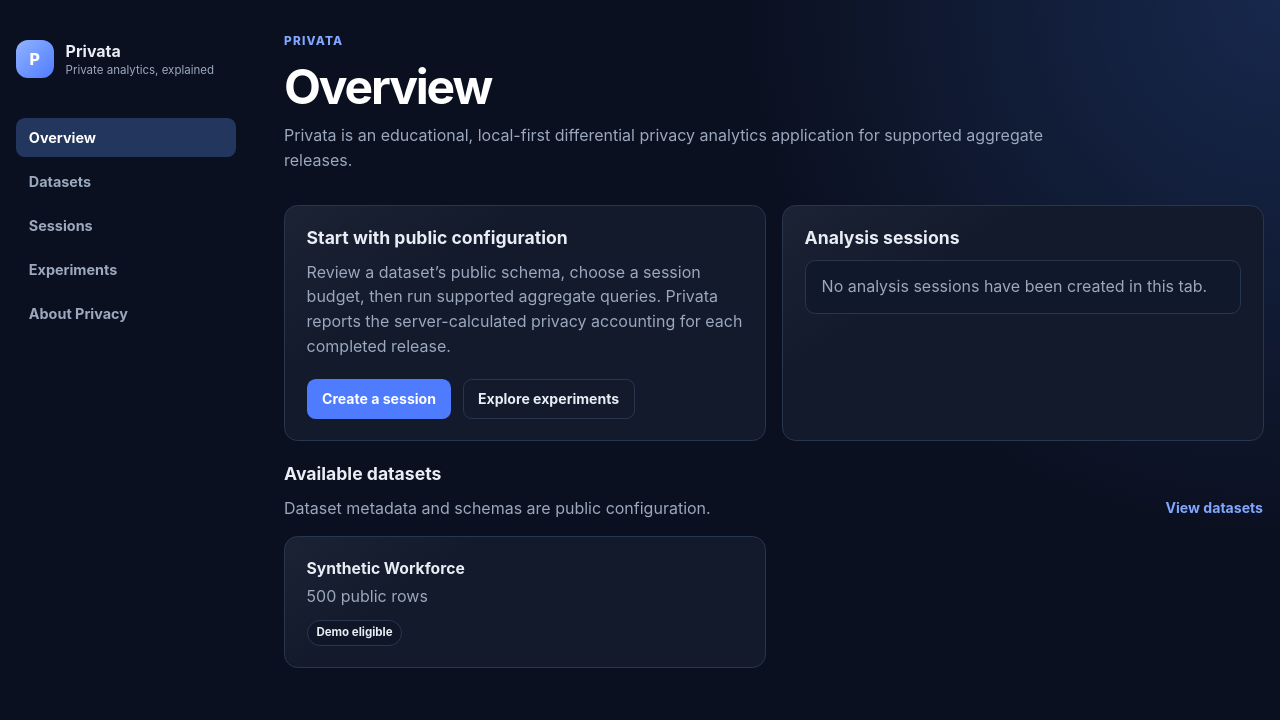
Test: Privata frontend › explains all four reference experiment categories
What coordinates should you click on to do the following:
click the link "Experiments"
I would click on:
 (73, 270)
Its box is [29,261,117,278].
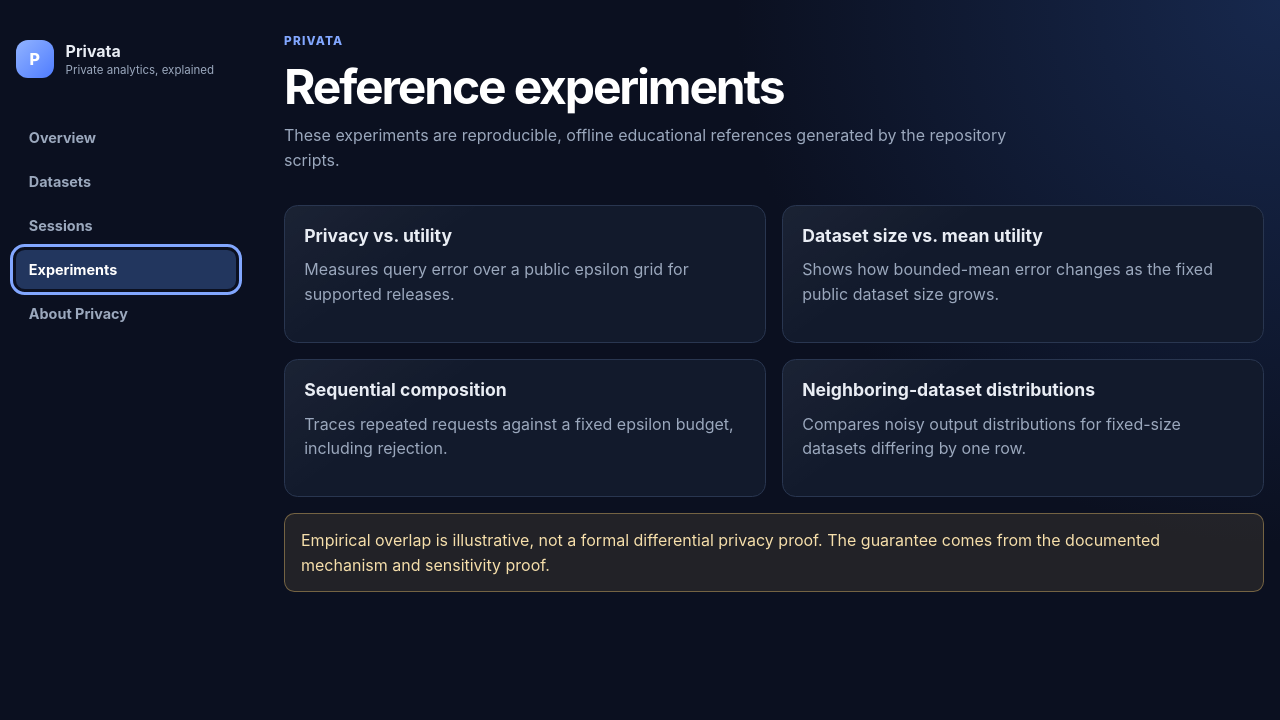
Expected: the heading "Reference experiments" is shown, [284,57,783,116]
Expected: the heading "Privacy vs. utility" is shown, [304,225,452,246]
Expected: the heading "Dataset size vs. mean utility" is shown, [802,225,1043,246]
